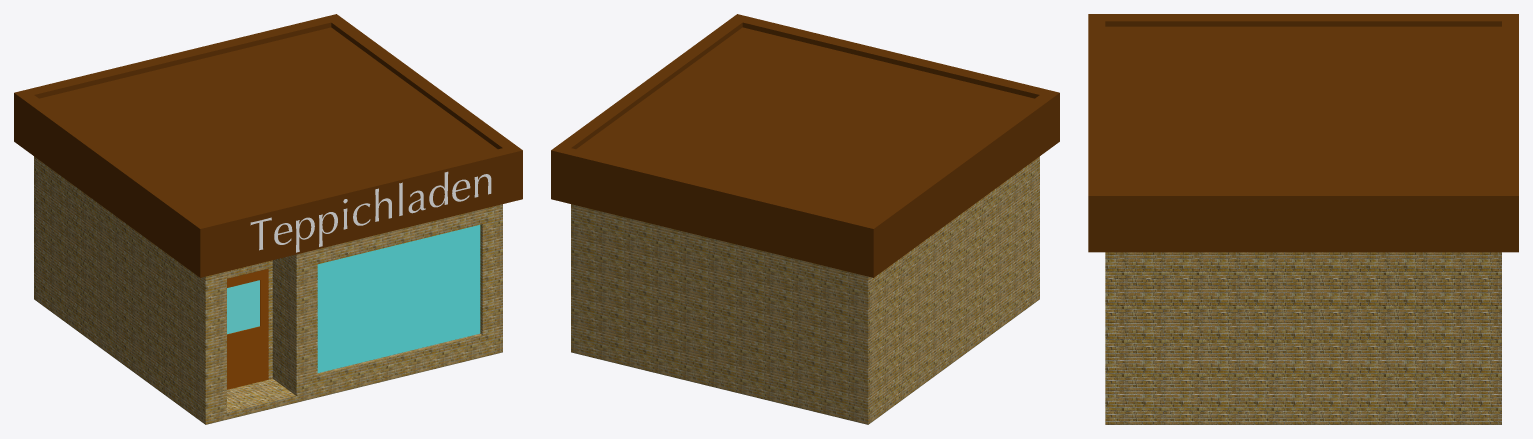
File: Teppichladen.dae
3 renders of one model, left to right at view 1: azimuth 30°, elevation 25°; view 2: azimuth 150°, elevation 25°; view 3: azimuth 270°, elevation 25°, orthographic. The views are drawn at different scales.
Visible parts, largest first — view 1: SketchUp (×8); view 2: SketchUp (×3); view 3: SketchUp (×3).
Boxes of the visible parts, bbox=[...] form: SketchUp (×8): bbox=[14, 14, 522, 424]; SketchUp (×3): bbox=[551, 14, 1059, 424]; SketchUp (×3): bbox=[1088, 14, 1518, 424].
Size of the model in its own units: 299 by 299 by 181.
9 materials, 1 textured.
